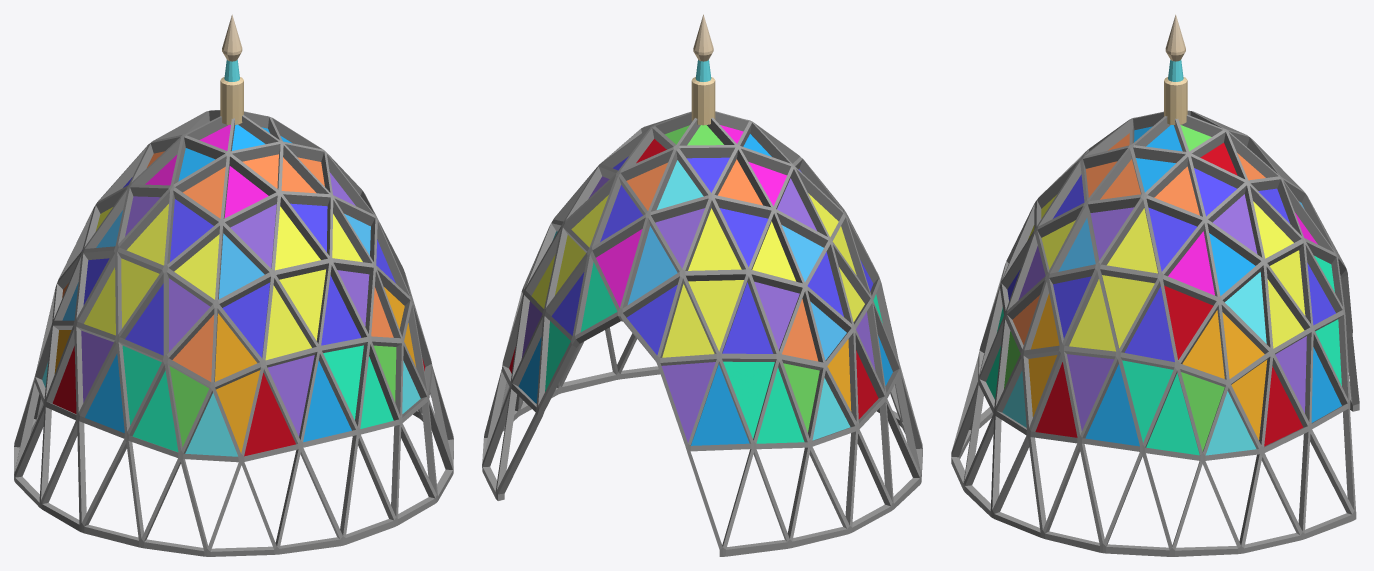
The model's file is ETC0110013.fbx.
The picture shows the model from 3 angles, left to right: view 1: azimuth 30°, elevation 25°; view 2: azimuth 150°, elevation 25°; view 3: azimuth 270°, elevation 25°; orthographic projection.
Visible parts, largest first — view 1: smETC0110013; view 2: smETC0110013; view 3: smETC0110013.
Boxes of the visible parts, bbox=[...] form: smETC0110013: bbox=[14, 14, 453, 556]; smETC0110013: bbox=[482, 14, 922, 556]; smETC0110013: bbox=[951, 14, 1359, 556].
Size of the model in its own units: 551 by 618 by 510.
Materials: 1 (1 with a texture image).
